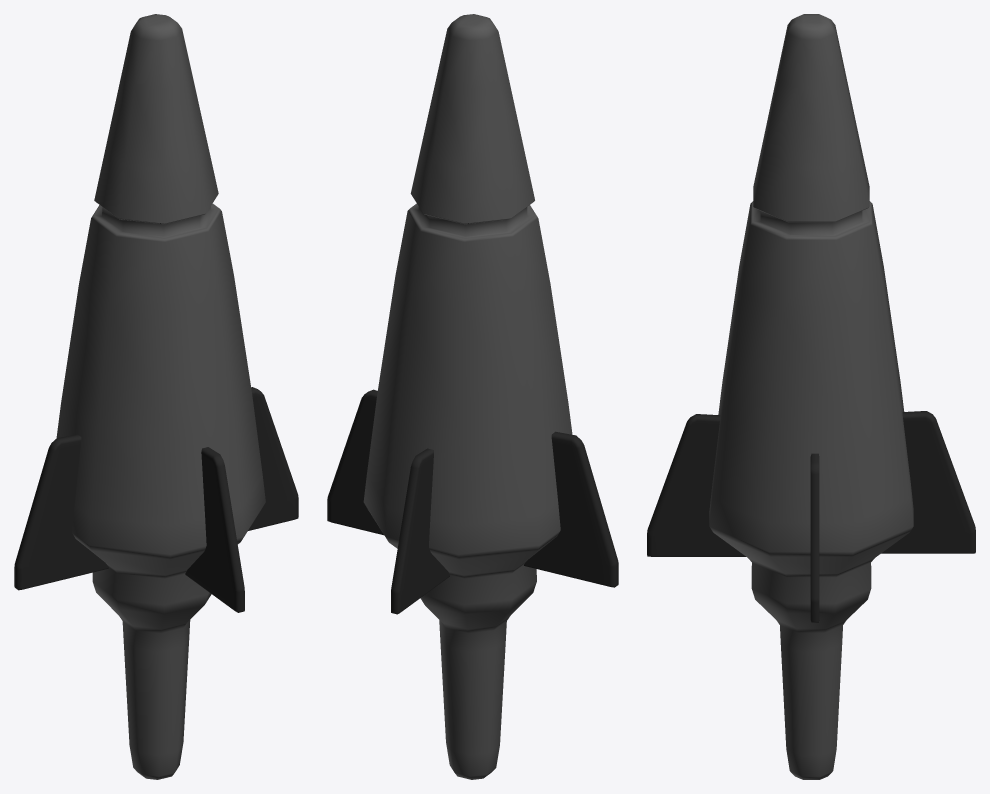
File: _Bullet_03.fbx
The picture shows the model from 3 angles, left to right: view 1: azimuth 30°, elevation 25°; view 2: azimuth 150°, elevation 25°; view 3: azimuth 270°, elevation 25°; orthographic projection.
Parts seen in each view (by area): view 1: Bullet_03; view 2: Bullet_03; view 3: Bullet_03.
Boxes of the visible parts, x1,y1,x2,y2 form: Bullet_03: (14,14,298,779); Bullet_03: (327,14,618,779); Bullet_03: (647,14,975,779).
Size of the model in its own units: 17.68 by 44.84 by 17.68.
1 material, 1 textured.
